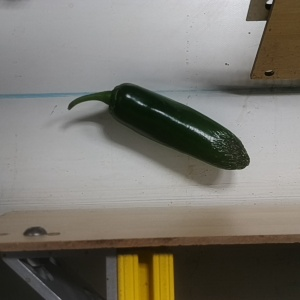Cut Point: (100, 82, 132, 120)
